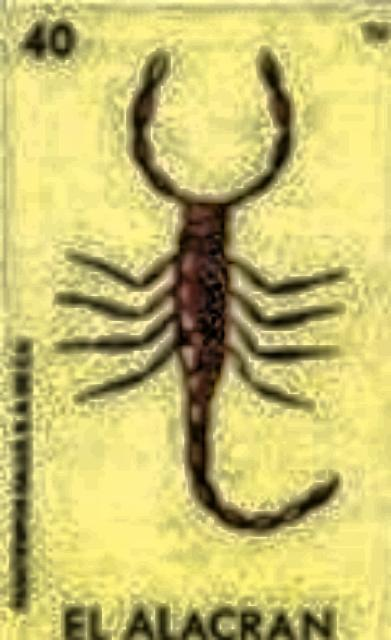El Alacran: (7, 8, 391, 640)
